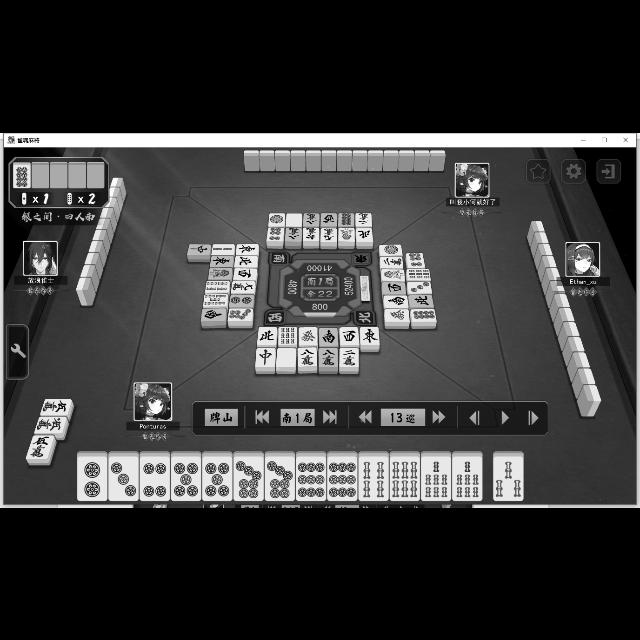1p: (380, 243, 402, 255), (269, 212, 285, 225)
1s: (208, 267, 232, 279), (381, 269, 405, 281), (339, 226, 355, 242)
2m: (340, 347, 358, 367), (380, 256, 402, 268), (354, 212, 372, 226)
2p: (77, 456, 107, 499), (228, 294, 254, 306)
2s: (211, 242, 235, 254)
3p: (108, 456, 138, 500), (406, 280, 432, 294)
3s: (493, 457, 525, 501)
4p: (139, 456, 169, 500)
4s: (359, 456, 388, 500), (205, 280, 229, 292)
5m: (26, 434, 54, 458), (40, 398, 72, 416), (35, 416, 67, 432)
5p: (202, 458, 232, 500), (172, 457, 200, 501)
5s: (203, 292, 227, 306)
6m: (303, 227, 319, 240)
6p: (406, 252, 424, 268), (266, 226, 284, 240)
6s: (390, 456, 420, 500)
7p: (232, 456, 264, 500), (264, 456, 296, 499), (228, 308, 252, 320)
7s: (452, 456, 484, 500), (421, 456, 451, 500)
8m: (296, 348, 316, 367), (318, 348, 338, 367), (302, 212, 320, 226), (284, 227, 302, 241)
8p: (14, 164, 31, 188), (411, 308, 437, 320), (339, 212, 355, 226)
9m: (231, 280, 255, 292), (320, 227, 336, 241)
9p: (295, 456, 325, 500), (327, 456, 357, 500)
9s: (279, 326, 297, 344), (406, 268, 432, 280)
chun: (256, 348, 274, 367), (188, 243, 212, 254)
haku: (276, 347, 296, 367), (286, 212, 304, 226)
hatsu: (384, 308, 410, 322), (299, 327, 317, 345)
nan: (320, 327, 338, 345), (384, 295, 408, 307), (202, 308, 226, 320)
pe: (258, 326, 276, 344), (408, 294, 434, 306), (235, 255, 258, 267), (355, 227, 373, 241)
sha: (339, 326, 358, 344), (382, 282, 406, 294), (234, 267, 256, 279), (321, 212, 337, 226)
tou: (360, 326, 380, 344), (236, 243, 258, 254), (210, 256, 232, 266)
